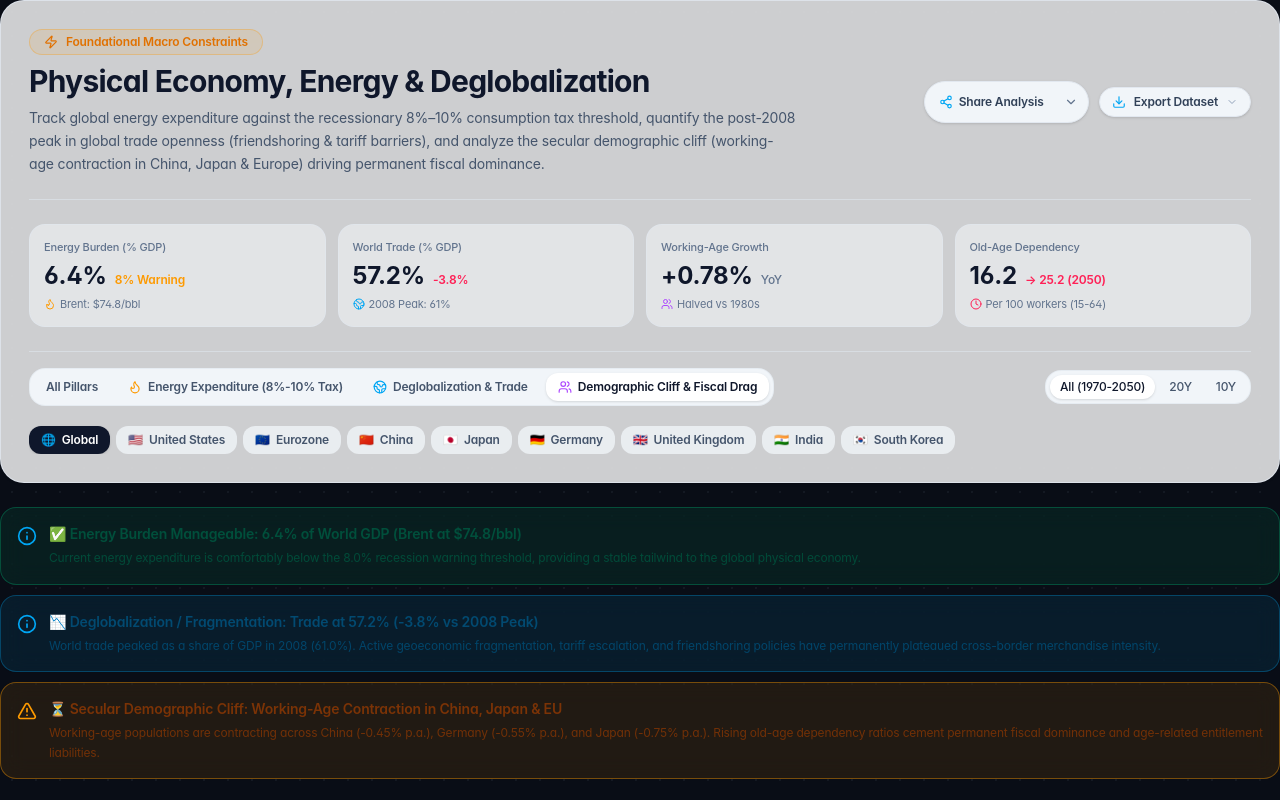
Test: PhysicalEconomyRadar Component › switches sovereign region to China and displays localized transmission details
The image size is (1280, 800).
Click the button "🇨🇳 China" at coordinates (386, 440), box [347, 426, 425, 454]
(page scrolled)
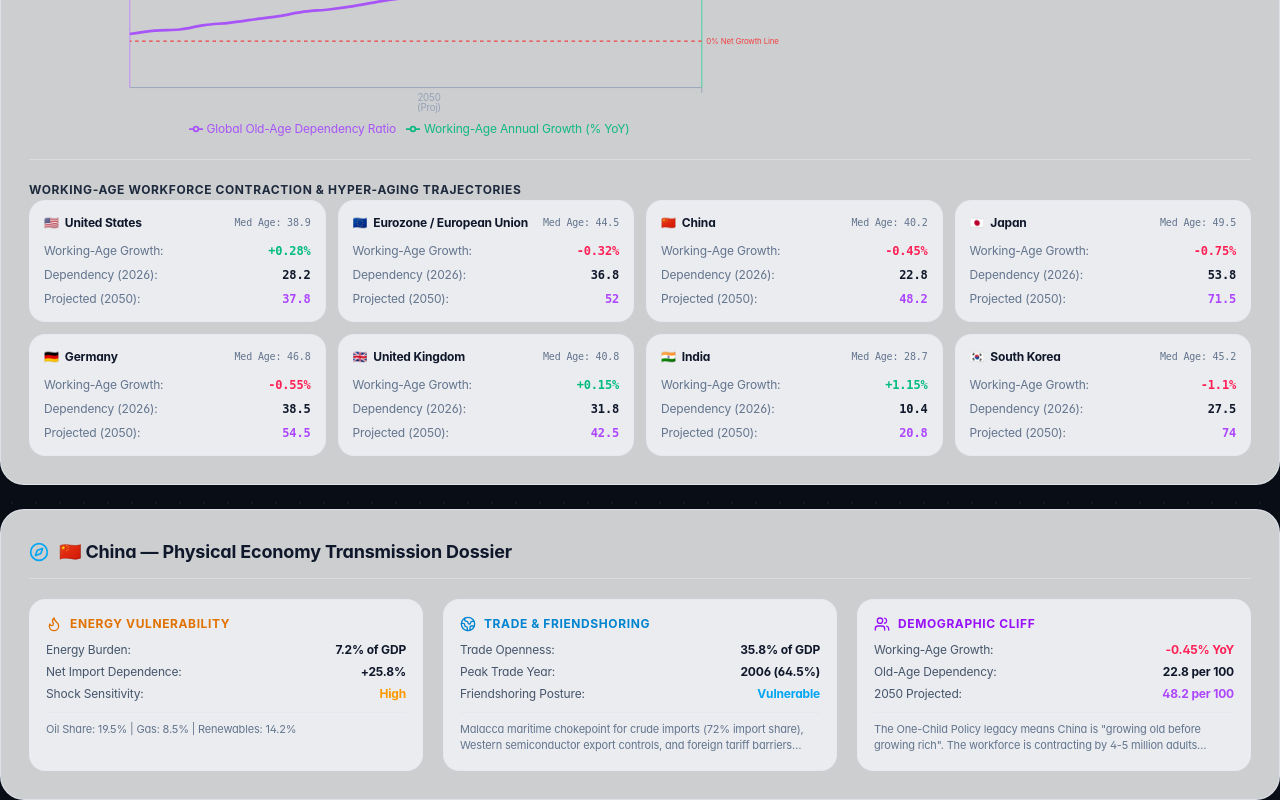
Now the heading "🇨🇳 China — Physical Economy Transmission Dossier" is shown, box [59, 538, 512, 566]
